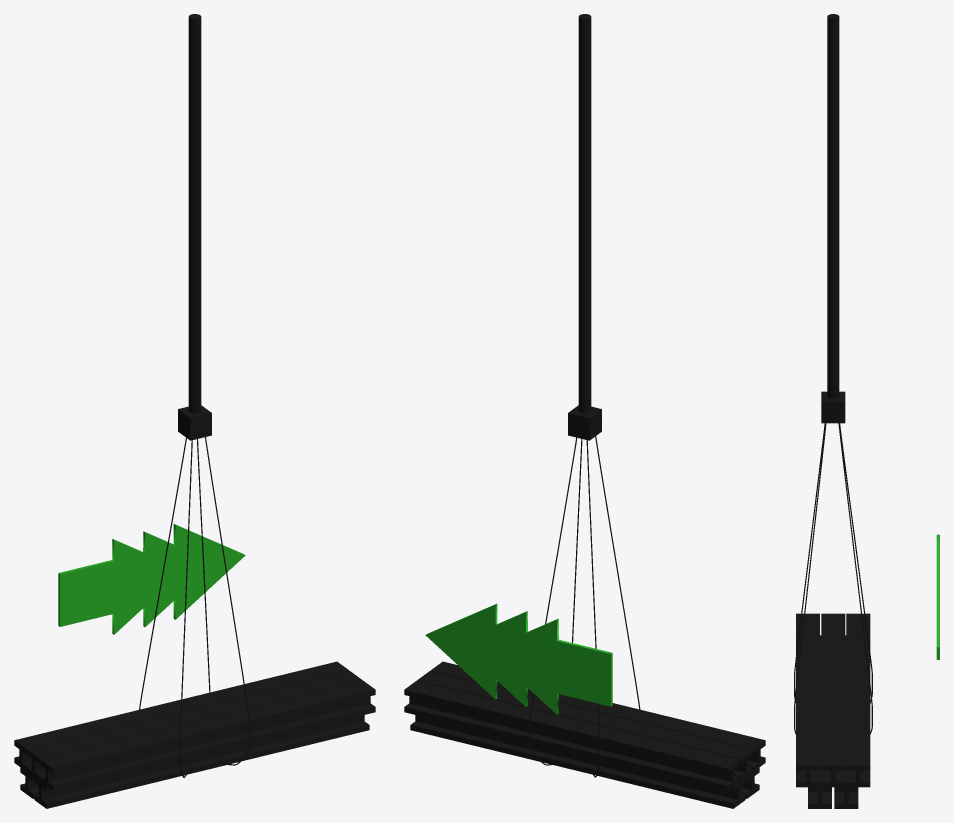
The model's file is Speed0Model.obj.
3 views of the same model, side by side, from view 1: azimuth 30°, elevation 25°; view 2: azimuth 150°, elevation 25°; view 3: azimuth 270°, elevation 25° (orthographic). The views are drawn at different scales.
Visible parts, largest first — view 1: steel_beams_platform:Mesh, Arrow:group3_pasted__group1_pasted__pasted__pCube1; view 2: steel_beams_platform:Mesh, Arrow:group3_pasted__group1_pasted__pasted__pCube1; view 3: steel_beams_platform:Mesh, Arrow:group3_pasted__group1_pasted__pasted__pCube1.
Boxes of the visible parts, <box> form: steel_beams_platform:Mesh: <box>14,14,375,808</box>; Arrow:group3_pasted__group1_pasted__pasted__pCube1: <box>58,524,245,634</box>; steel_beams_platform:Mesh: <box>404,14,765,808</box>; Arrow:group3_pasted__group1_pasted__pasted__pCube1: <box>425,603,612,714</box>; steel_beams_platform:Mesh: <box>794,14,872,808</box>; Arrow:group3_pasted__group1_pasted__pasted__pCube1: <box>936,534,939,659</box>.
Bounding box in the file's own units: 6 × 13.25 × 2.44.
